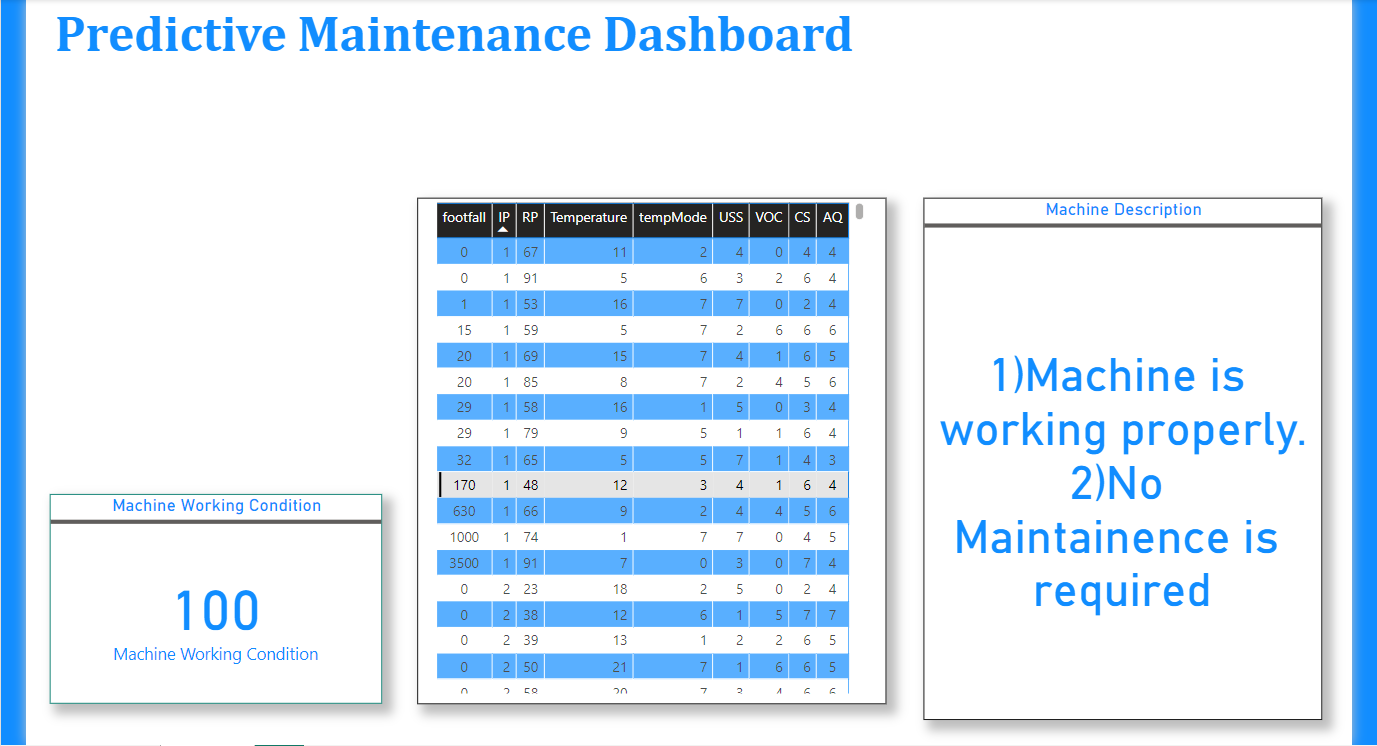

This screenshot's page, from the dashboard's own definition file:
{"tool":"powerbi","page":{"name":"Page 1","canvas":[1280,720],"ordinal":0},"visuals":[{"type":"tableEx","fields":{"Values":["data_cleaned.footfall","data_cleaned.IP","data_cleaned.RP","data_cleaned.Temperature","data_cleaned.tempMode","data_cleaned.USS","data_cleaned.VOC","data_cleaned.CS","data_cleaned.AQ"]},"box":[377.6,191.8,452.4,488.6],"z":0},{"type":"card","title":"Machine Working Condition","fields":{"Values":["Max(data_cleaned.machine_condition(%))"]},"box":[22.9,477.8,320.9,202.7],"z":1000},{"type":"card","title":"Machine Description","fields":{"Values":["data_cleaned.MachineConditionMessage"]},"box":[866.2,191.8,384.9,504.3],"z":2000},{"type":"textbox","box":[22.9,0,807.1,73.6],"z":2001}]}

Visuals, with their boxes on the page's 1280x720 design canvas (x1, y1, x2, y2). These are canvas units, not pixel positions in the 1377x746 screenshot, which may show the page scaled, cropped or inside an application window:
tableEx - data_cleaned.footfall x data_cleaned.IP: Rect(378, 192, 830, 680)
"Machine Working Condition" card: Rect(23, 478, 344, 680)
"Machine Description" card: Rect(866, 192, 1251, 696)
textbox: Rect(23, 0, 830, 74)
